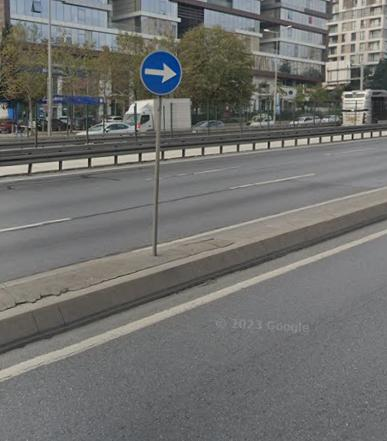turnright: (142, 52, 181, 92)
